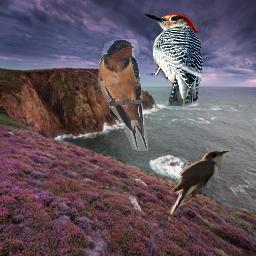Cuckoo: (168, 149, 230, 223)
Swallow: (98, 39, 148, 151)
Woodpecker: (140, 8, 206, 106)
